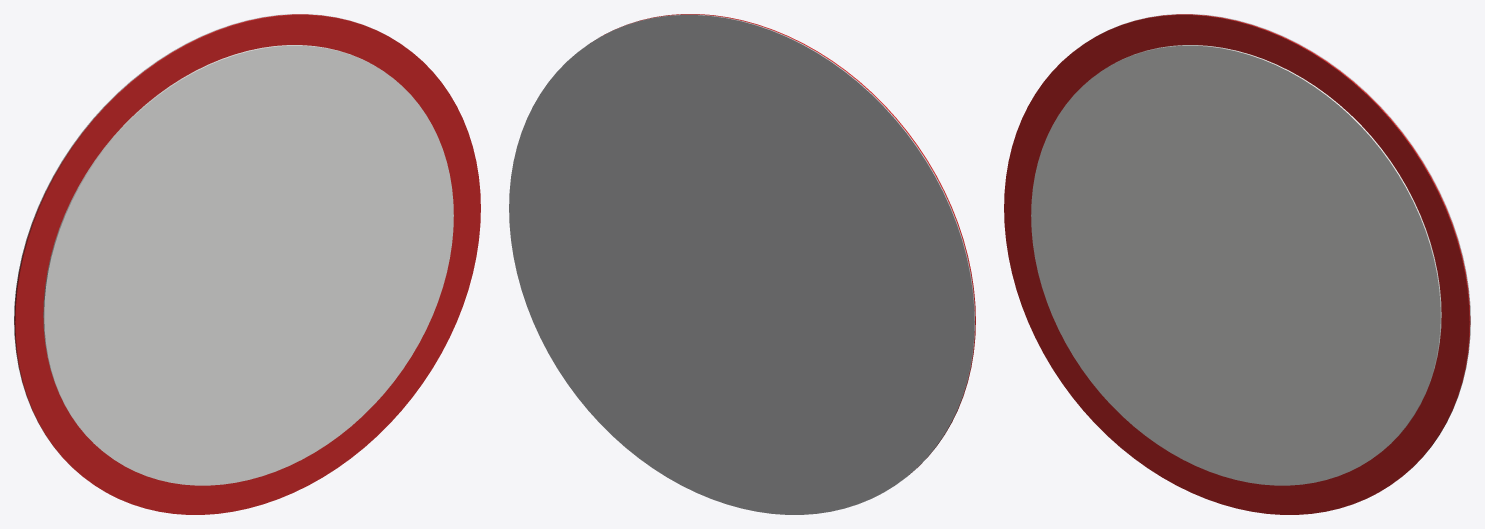
3 views of the same model, side by side, from view 1: azimuth 30°, elevation 25°; view 2: azimuth 150°, elevation 25°; view 3: azimuth 330°, elevation 25° (orthographic).
Visible parts, largest first — view 1: B0_fond, B0_bord, B0_dos; view 2: B0_dos, B0_bord; view 3: B0_fond, B0_bord, B0_dos.
Part boxes in pixels (left/top/right/bottom): B0_fond: left=43, top=45, right=453, bottom=485; B0_bord: left=14, top=14, right=480, bottom=514; B0_dos: left=14, top=14, right=385, bottom=474; B0_dos: left=509, top=14, right=974, bottom=514; B0_bord: left=601, top=14, right=975, bottom=474; B0_fond: left=1031, top=45, right=1441, bottom=485; B0_bord: left=1004, top=14, right=1470, bottom=514; B0_dos: left=1099, top=14, right=1470, bottom=474.
Size of the model in its own units: 0.65 by 0.65 by 0.0055.
